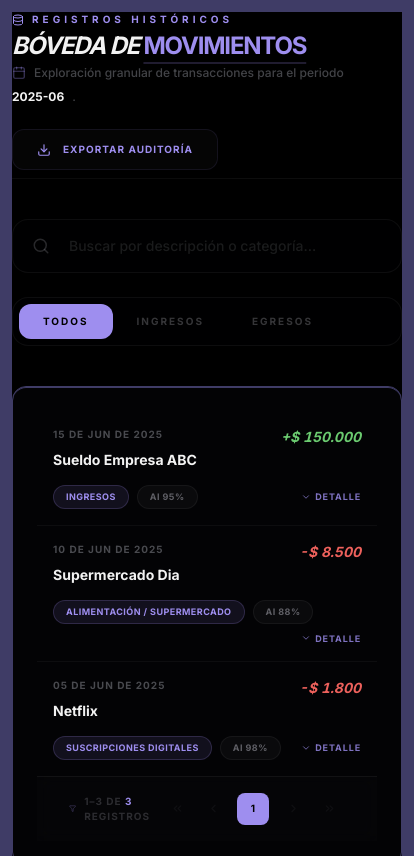
Test: MovimientosPage › muestra EmptyState cuando no hay resultados que coincidan con la búsqueda
Type "ZZZ_INEXISTENTE" into the field with placeholder "Buscar por descripción o categoría..." at (207, 246), box [12,219,402,273]
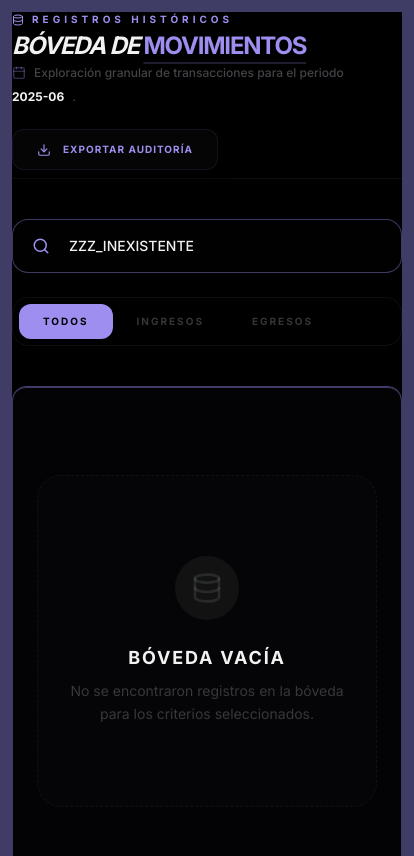
expect the text "No se encontraron registros" is shown: met, box [70,682,344,722]
